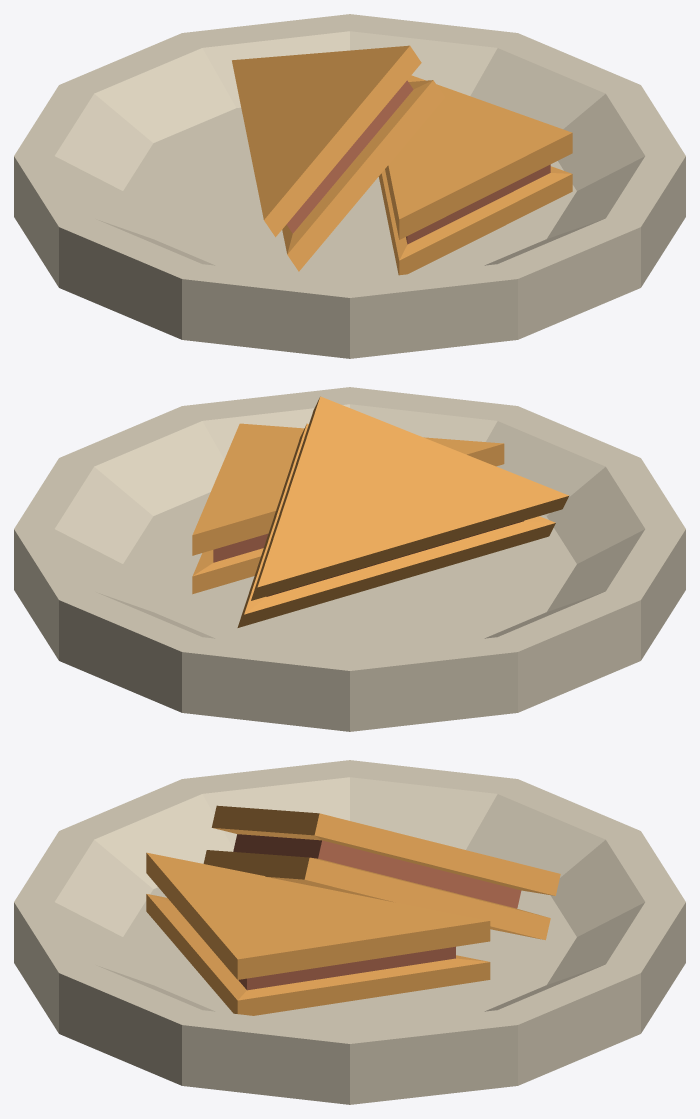
The model's file is Target_01_Sandwich.fbx.
The picture shows the model from 3 angles, top to bottom: view 1: azimuth 30°, elevation 25°; view 2: azimuth 150°, elevation 25°; view 3: azimuth 270°, elevation 25°; orthographic projection.
Parts seen in each view (by area): view 1: Sandwich; view 2: Sandwich; view 3: Sandwich.
Boxes of the visible parts, <box> form: Sandwich: <box>14,14,685,358</box>; Sandwich: <box>14,387,685,731</box>; Sandwich: <box>14,760,685,1104</box>.
Size of the model in its own units: 0.5 by 0.1408 by 0.5.
